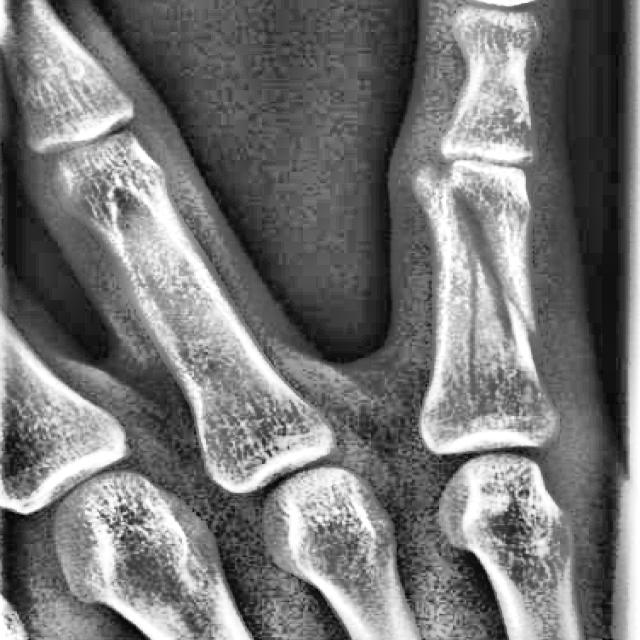fracture: (421, 160, 552, 383)
